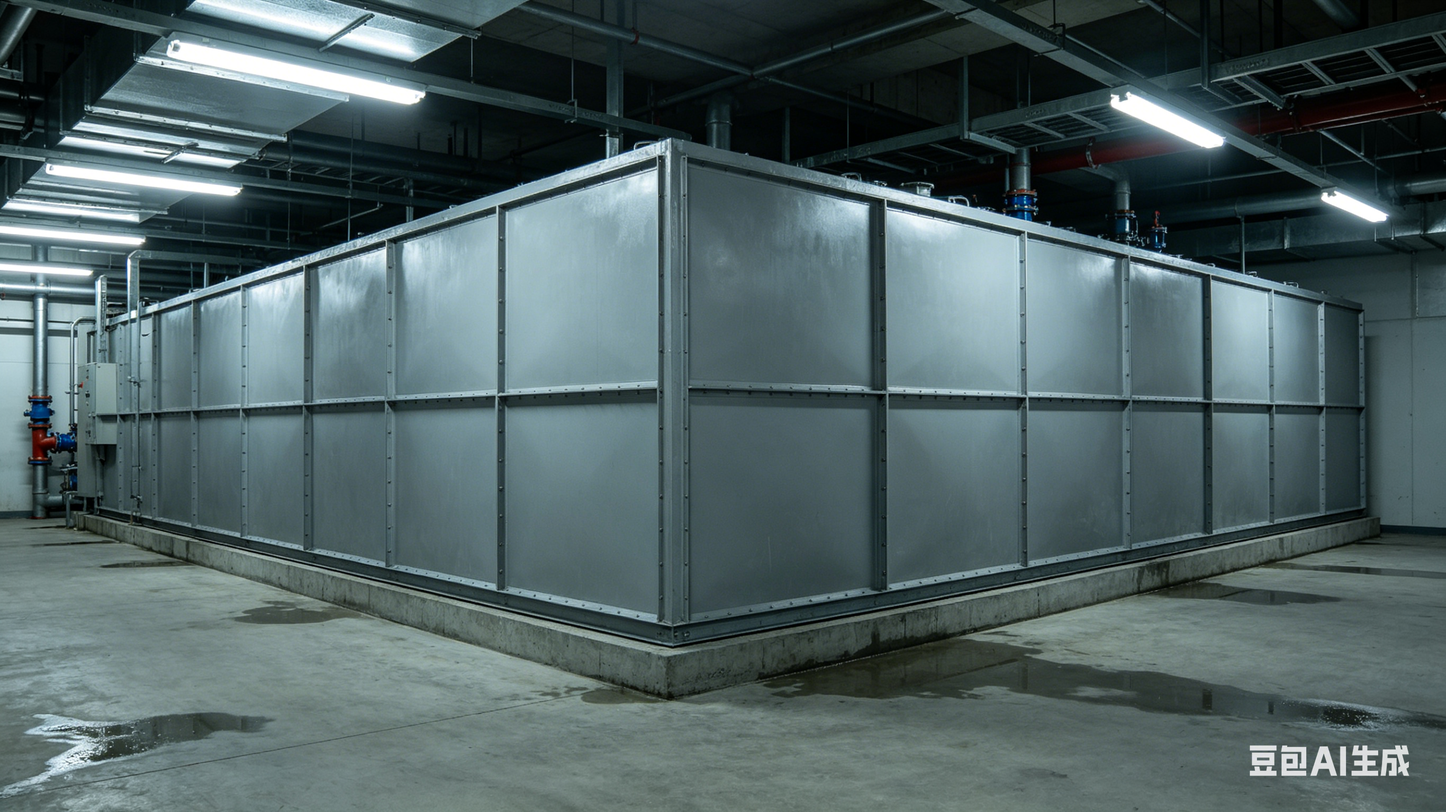Leakage: (773, 652, 1423, 739), (9, 717, 254, 788), (1187, 558, 1446, 594), (237, 600, 359, 631), (567, 681, 647, 714)
